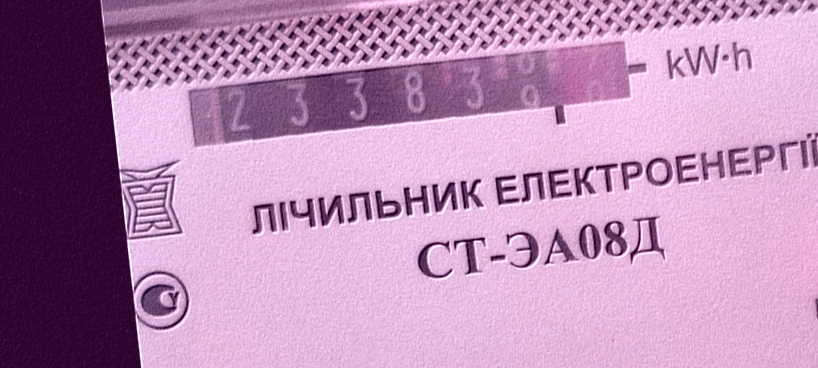0: (585, 77, 610, 105)
2: (225, 86, 255, 135)
3: (283, 78, 317, 130), (341, 73, 375, 125), (460, 63, 489, 111)
8: (400, 68, 432, 117), (515, 49, 541, 79)
9: (580, 41, 605, 73), (519, 81, 543, 112)
screen: (176, 28, 656, 170)
